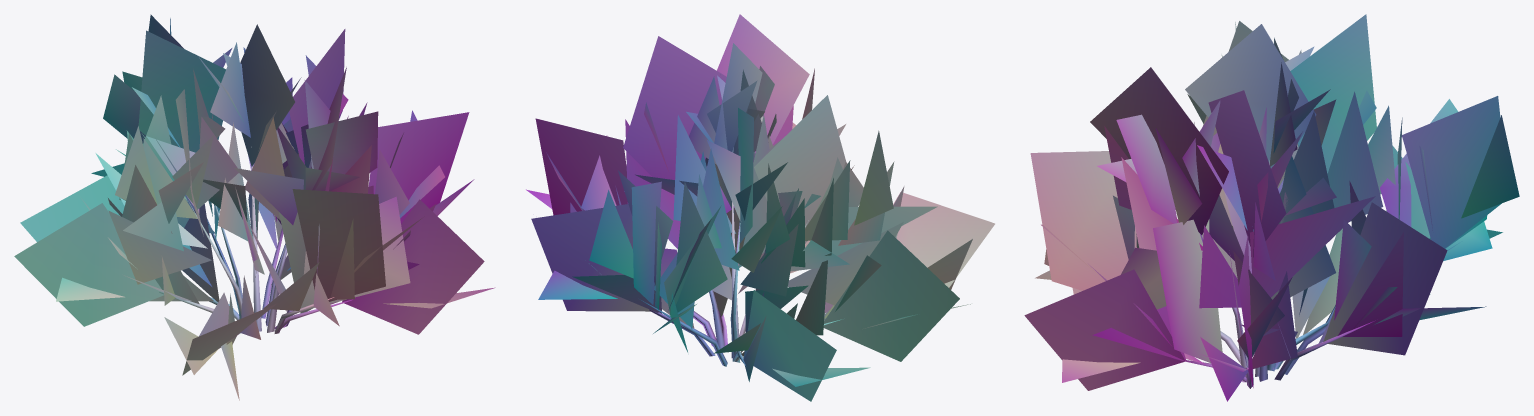
The picture shows the model from 3 angles, left to right: view 1: azimuth 30°, elevation 25°; view 2: azimuth 150°, elevation 25°; view 3: azimuth 270°, elevation 25°; orthographic projection. The views are drawn at different scales.
Parts seen in each view (by area): view 1: SM_BS_Retama_180cm; view 2: SM_BS_Retama_180cm; view 3: SM_BS_Retama_180cm.
Boxes of the visible parts, box(x1,y1,x2,y2) form: SM_BS_Retama_180cm: box(14, 14, 495, 400); SM_BS_Retama_180cm: box(526, 14, 994, 401); SM_BS_Retama_180cm: box(1024, 14, 1519, 401).
Size of the model in its own units: 101 by 120 by 79.5.
